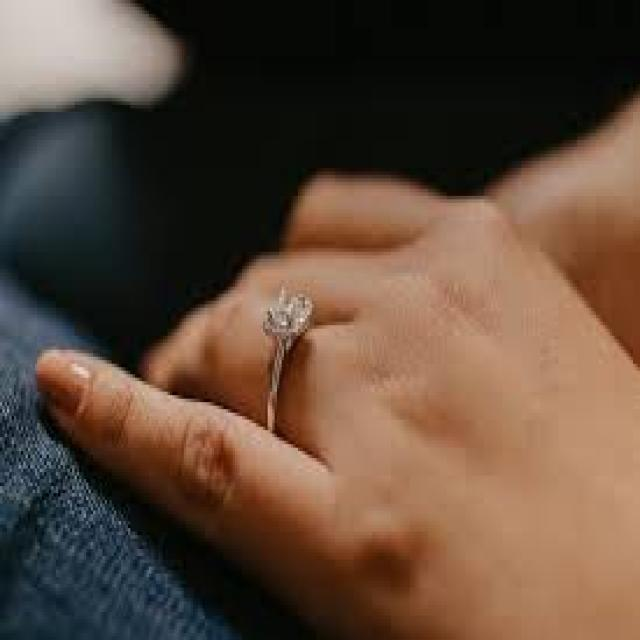Ring: (256, 280, 317, 434)
